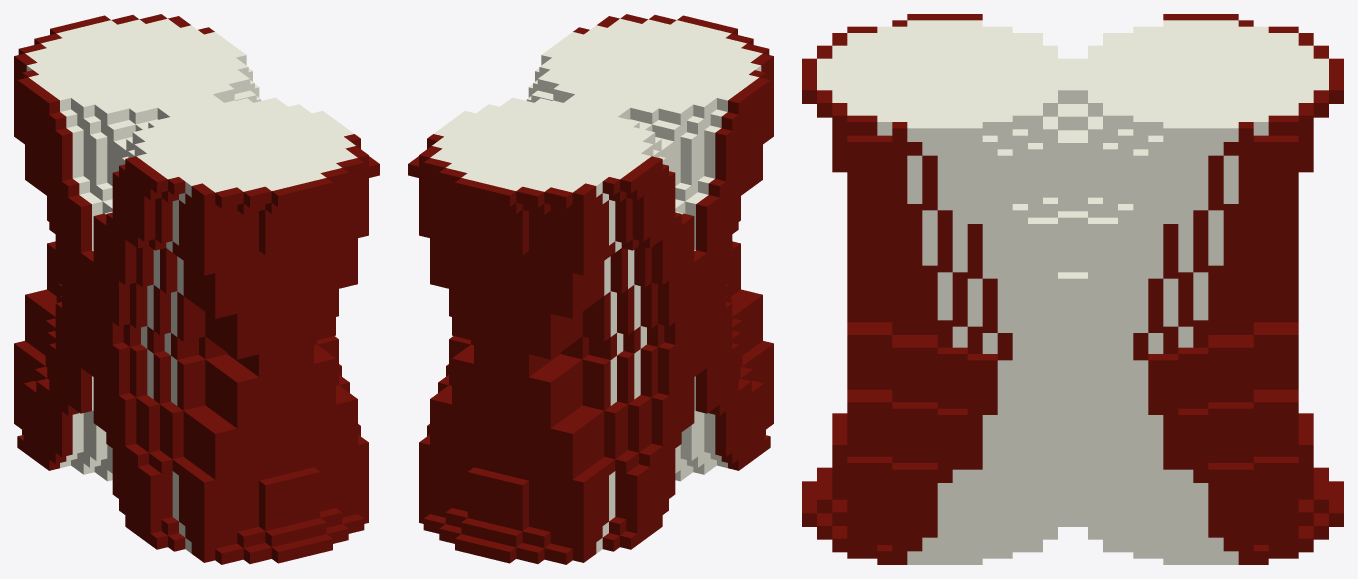
File: Torso.obj
The picture shows the model from 3 angles, left to right: view 1: azimuth 30°, elevation 25°; view 2: azimuth 150°, elevation 25°; view 3: azimuth 270°, elevation 25°; orthographic projection. The views are drawn at different scales.
Size of the model in its own units: 18 by 32 by 36.
